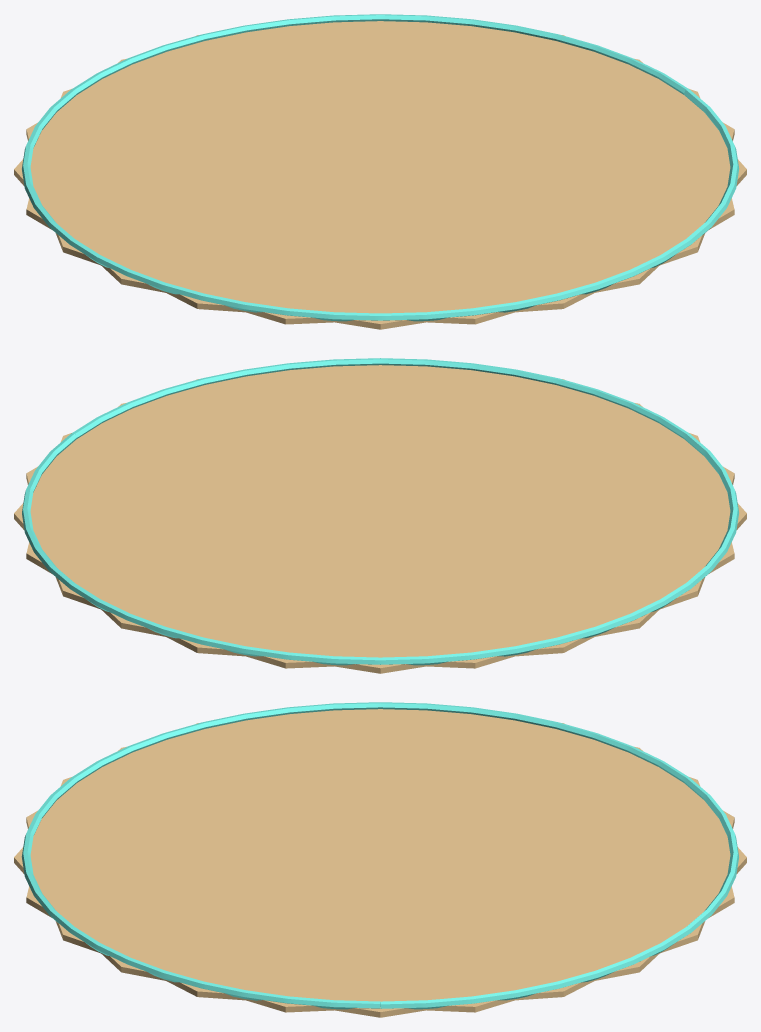
File: Carousel_Base.fbx
3 views of the same model, one above another, from view 1: azimuth 30°, elevation 25°; view 2: azimuth 150°, elevation 25°; view 3: azimuth 270°, elevation 25° (orthographic).
Visible parts, largest first — view 1: Carousel_Base; view 2: Carousel_Base; view 3: Carousel_Base.
Part boxes in pixels (<box>): Carousel_Base: <box>14,14,746,329</box>; Carousel_Base: <box>14,358,746,673</box>; Carousel_Base: <box>14,702,746,1017</box>.
Size of the model in its own units: 29.58 by 0.4739 by 29.58.
